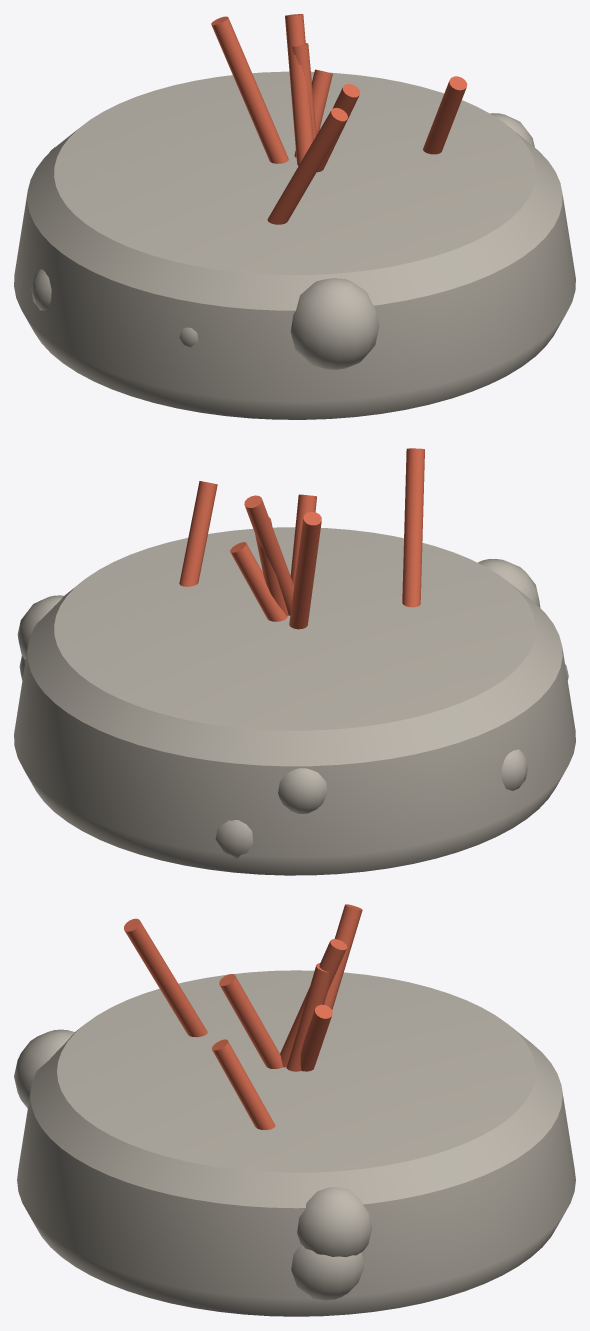
The model's file is concrete_plug.glb.
3 renders of one model, top to bottom at view 1: azimuth 30°, elevation 25°; view 2: azimuth 150°, elevation 25°; view 3: azimuth 270°, elevation 25°, orthographic.
Visible parts, largest first — view 1: concrete_plug; view 2: concrete_plug; view 3: concrete_plug.
Boxes of the visible parts, x1,y1,x2,y2 form: concrete_plug: [14, 14, 575, 419]; concrete_plug: [14, 448, 575, 875]; concrete_plug: [14, 904, 575, 1316].
Bounding box in the file's own units: 2.16 × 1.15 × 2.11.
Materials: 1 (1 with a texture image).
